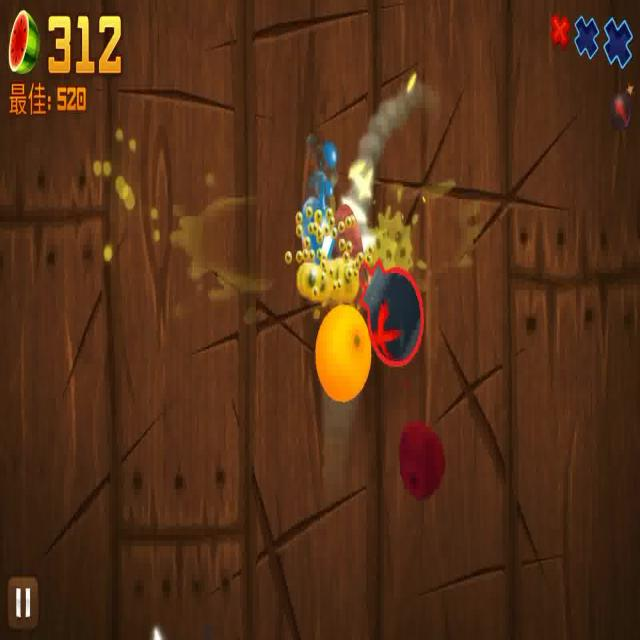bomb: (361, 238, 426, 368)
fruit: (307, 301, 369, 406), (394, 414, 446, 506)
